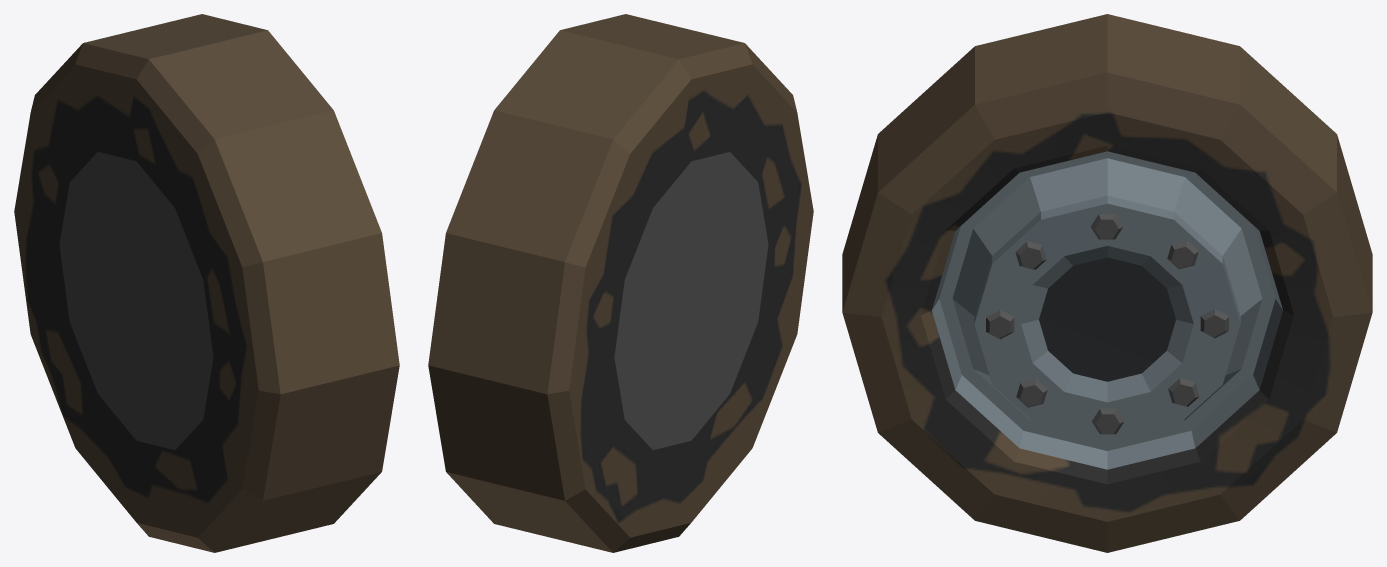
The model's file is SM_Veh_Truck_01_Wheel_fl.obj.
3 views of the same model, side by side, from view 1: azimuth 30°, elevation 25°; view 2: azimuth 150°, elevation 25°; view 3: azimuth 270°, elevation 25° (orthographic).
Visible parts, largest first — view 1: SM_Veh_Truck_01_Wheel_fl_0; view 2: SM_Veh_Truck_01_Wheel_fl_0; view 3: SM_Veh_Truck_01_Wheel_fl_0.
Boxes of the visible parts, x1,y1,x2,y2 form: SM_Veh_Truck_01_Wheel_fl_0: [14, 14, 399, 552]; SM_Veh_Truck_01_Wheel_fl_0: [428, 14, 813, 552]; SM_Veh_Truck_01_Wheel_fl_0: [842, 14, 1372, 552].
Size of the model in its own units: 0.4671 by 1.34 by 1.34.
1 material, 1 textured.
